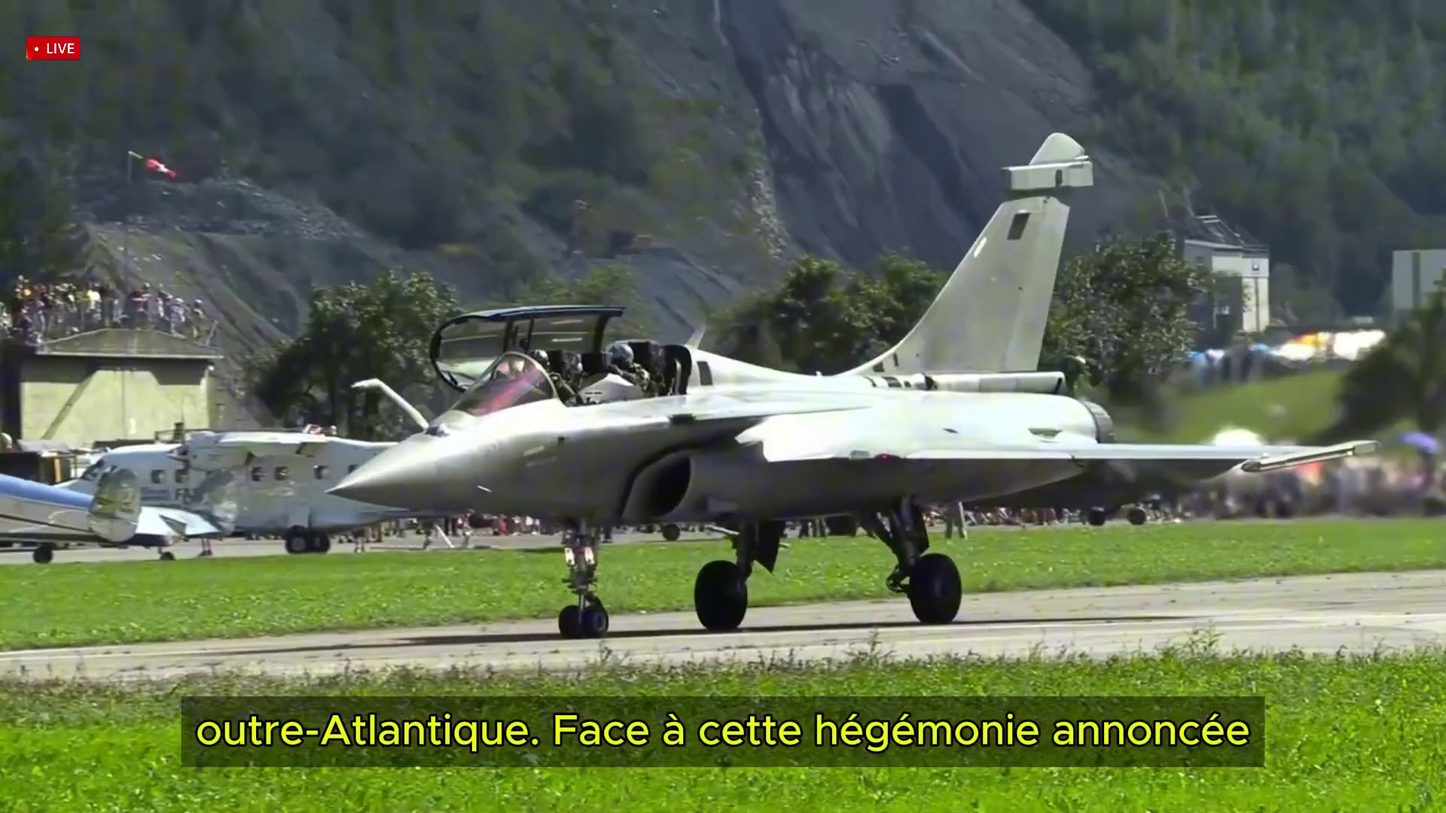Rafale: (305, 139, 1393, 648)
